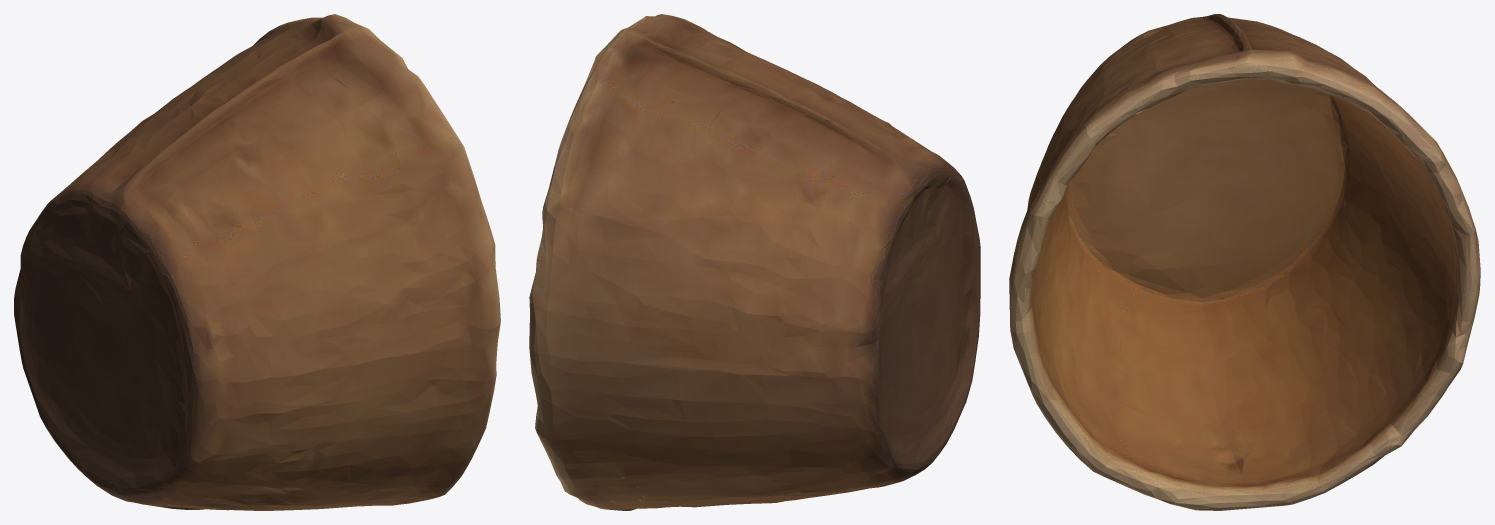
File: large_woven_basket_hanging_on_right_wall_000.glb
The picture shows the model from 3 angles, left to right: view 1: azimuth 30°, elevation 25°; view 2: azimuth 150°, elevation 25°; view 3: azimuth 270°, elevation 25°; orthographic projection.
Visible parts, largest first — view 1: phase2_final_large_woven_basket_hanging_on_right_wall_000.ob; view 2: phase2_final_large_woven_basket_hanging_on_right_wall_000.ob; view 3: phase2_final_large_woven_basket_hanging_on_right_wall_000.ob.
Part boxes in pixels (x1,y1,x2,y2): phase2_final_large_woven_basket_hanging_on_right_wall_000.ob: (14,14,500,510); phase2_final_large_woven_basket_hanging_on_right_wall_000.ob: (529,14,980,510); phase2_final_large_woven_basket_hanging_on_right_wall_000.ob: (1009,14,1480,510).
Bounding box in the file's own units: 0.1789 × 0.2397 × 0.224.
Materials: 1 (1 with a texture image).
